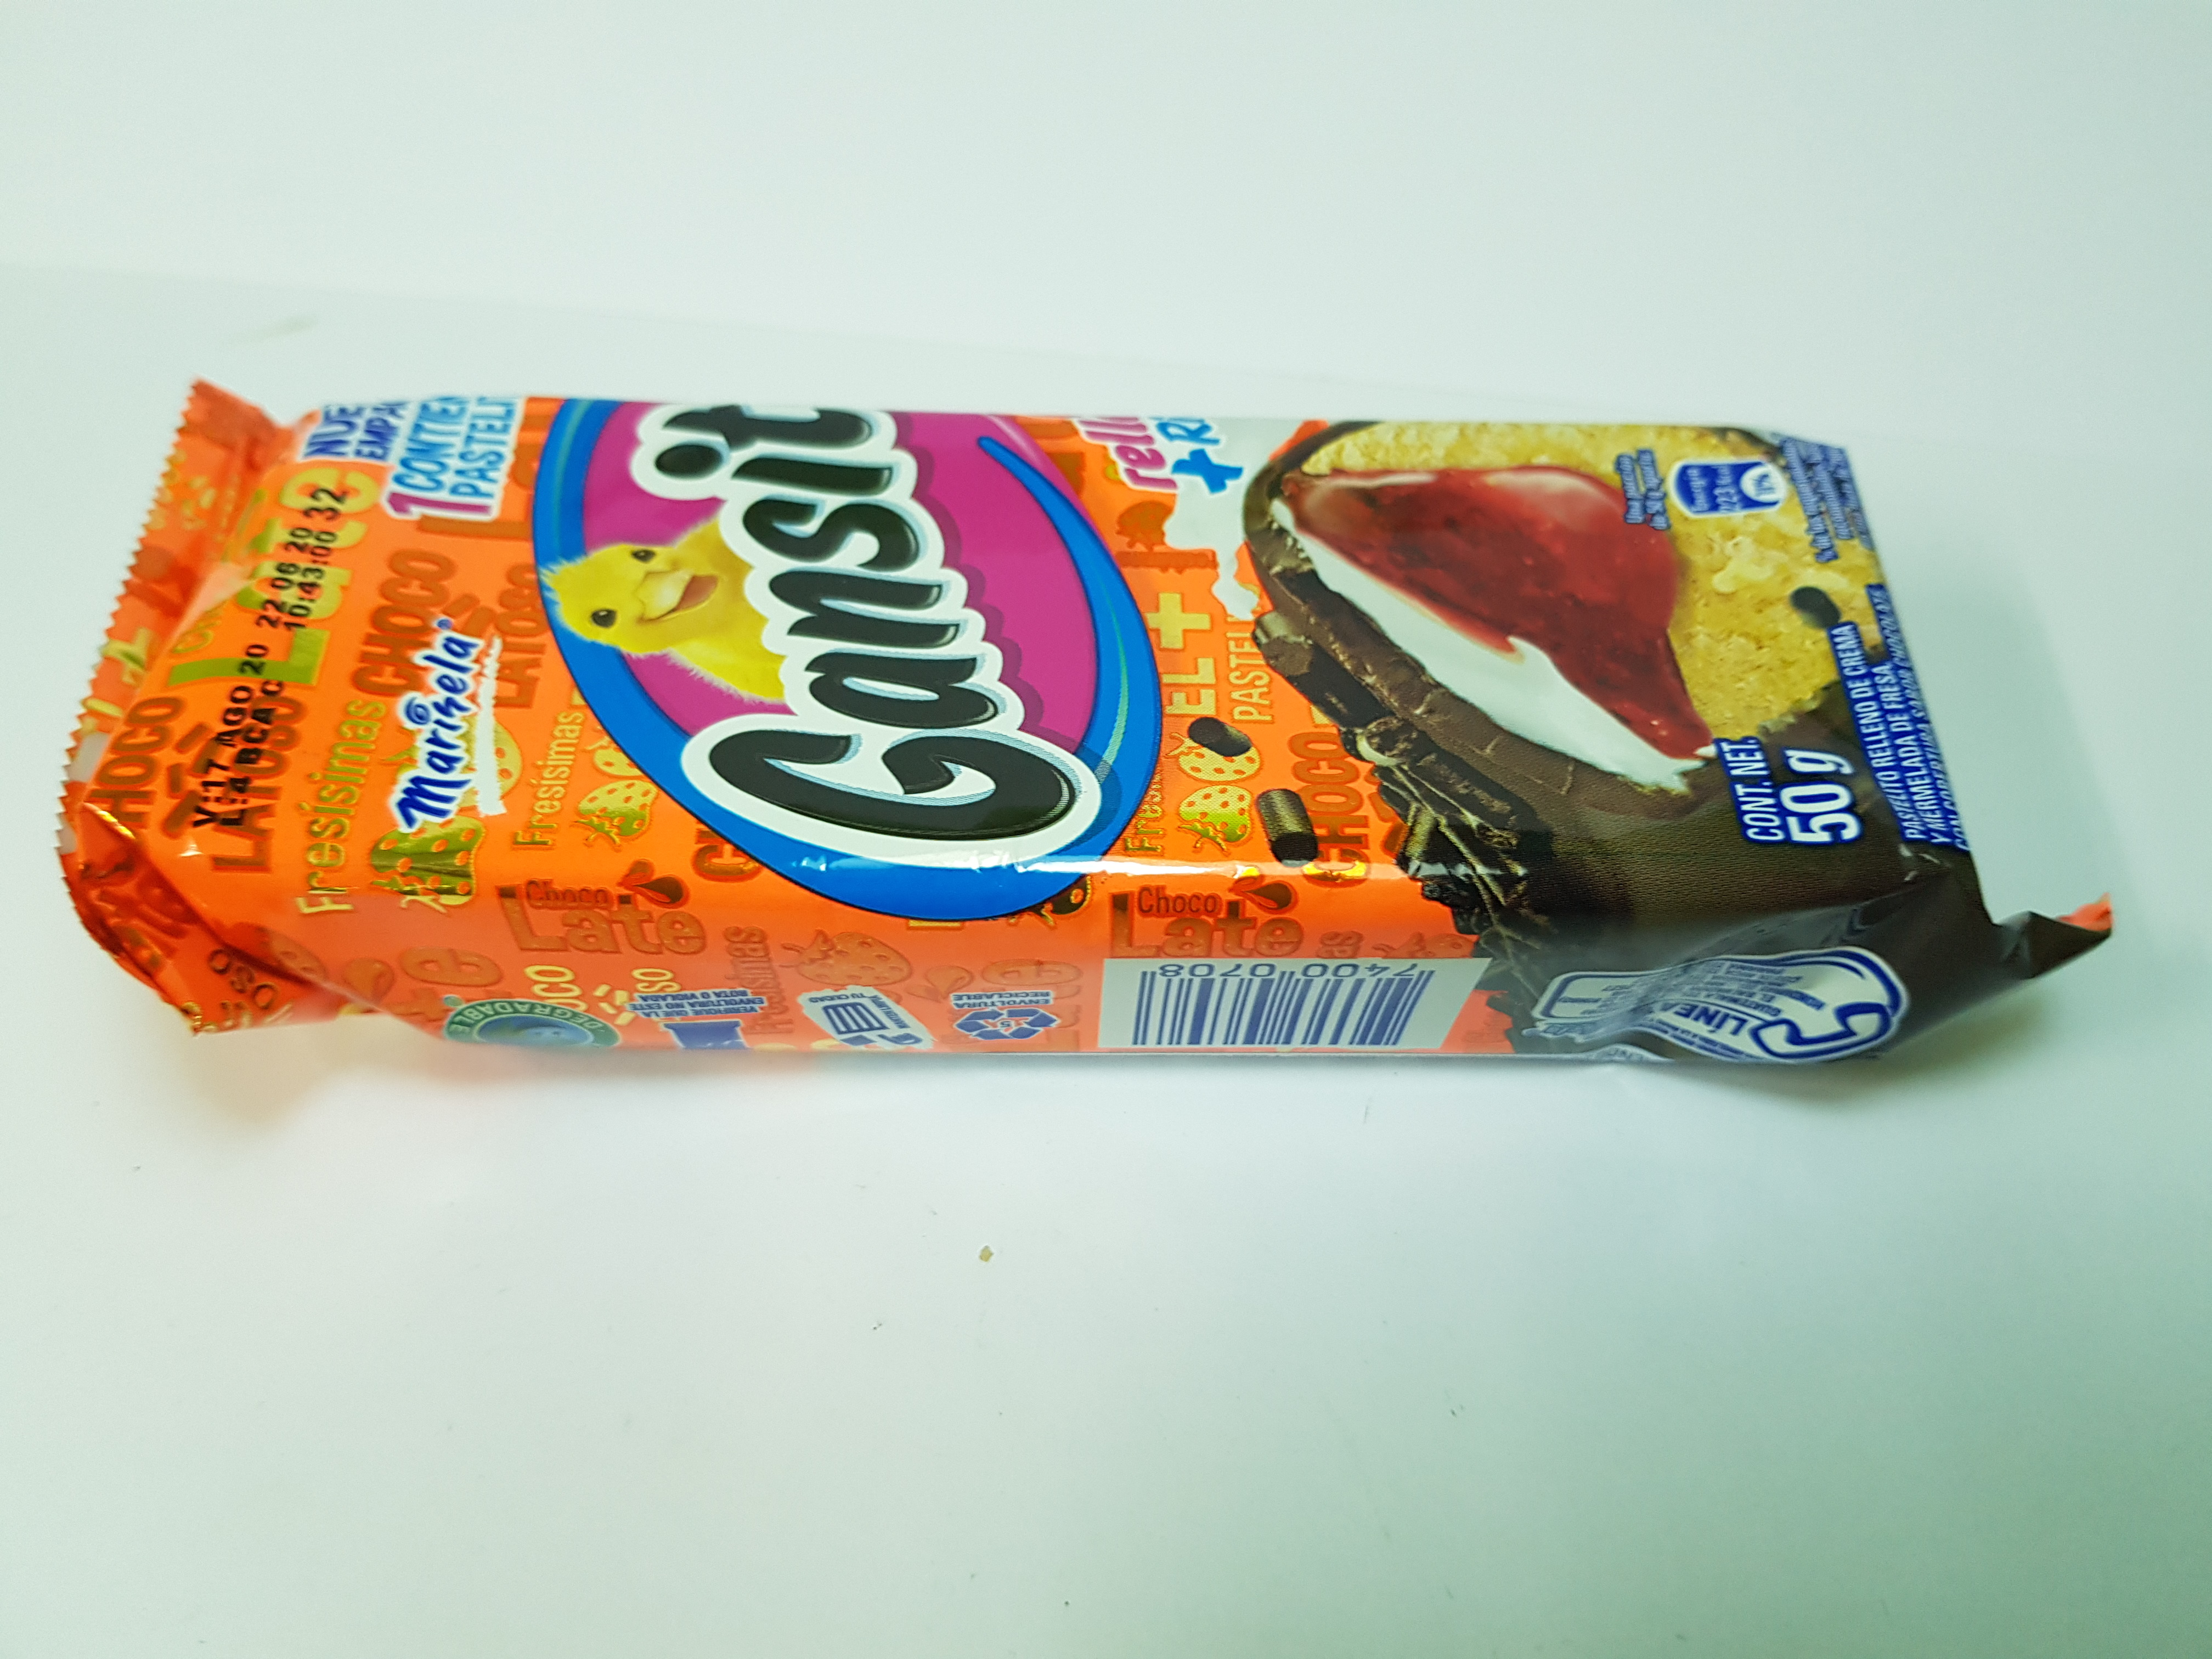gansito: (45, 359, 2149, 1107)
